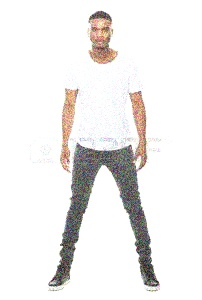arm: (129, 63, 149, 144), (61, 63, 75, 144)
chest: (76, 63, 131, 147)
face: (88, 10, 112, 48)
foot: (138, 262, 163, 292), (48, 260, 71, 291)
hand: (133, 143, 146, 170), (60, 144, 71, 171)
leg: (105, 172, 153, 262), (60, 172, 104, 260)
neck: (92, 47, 112, 62)
